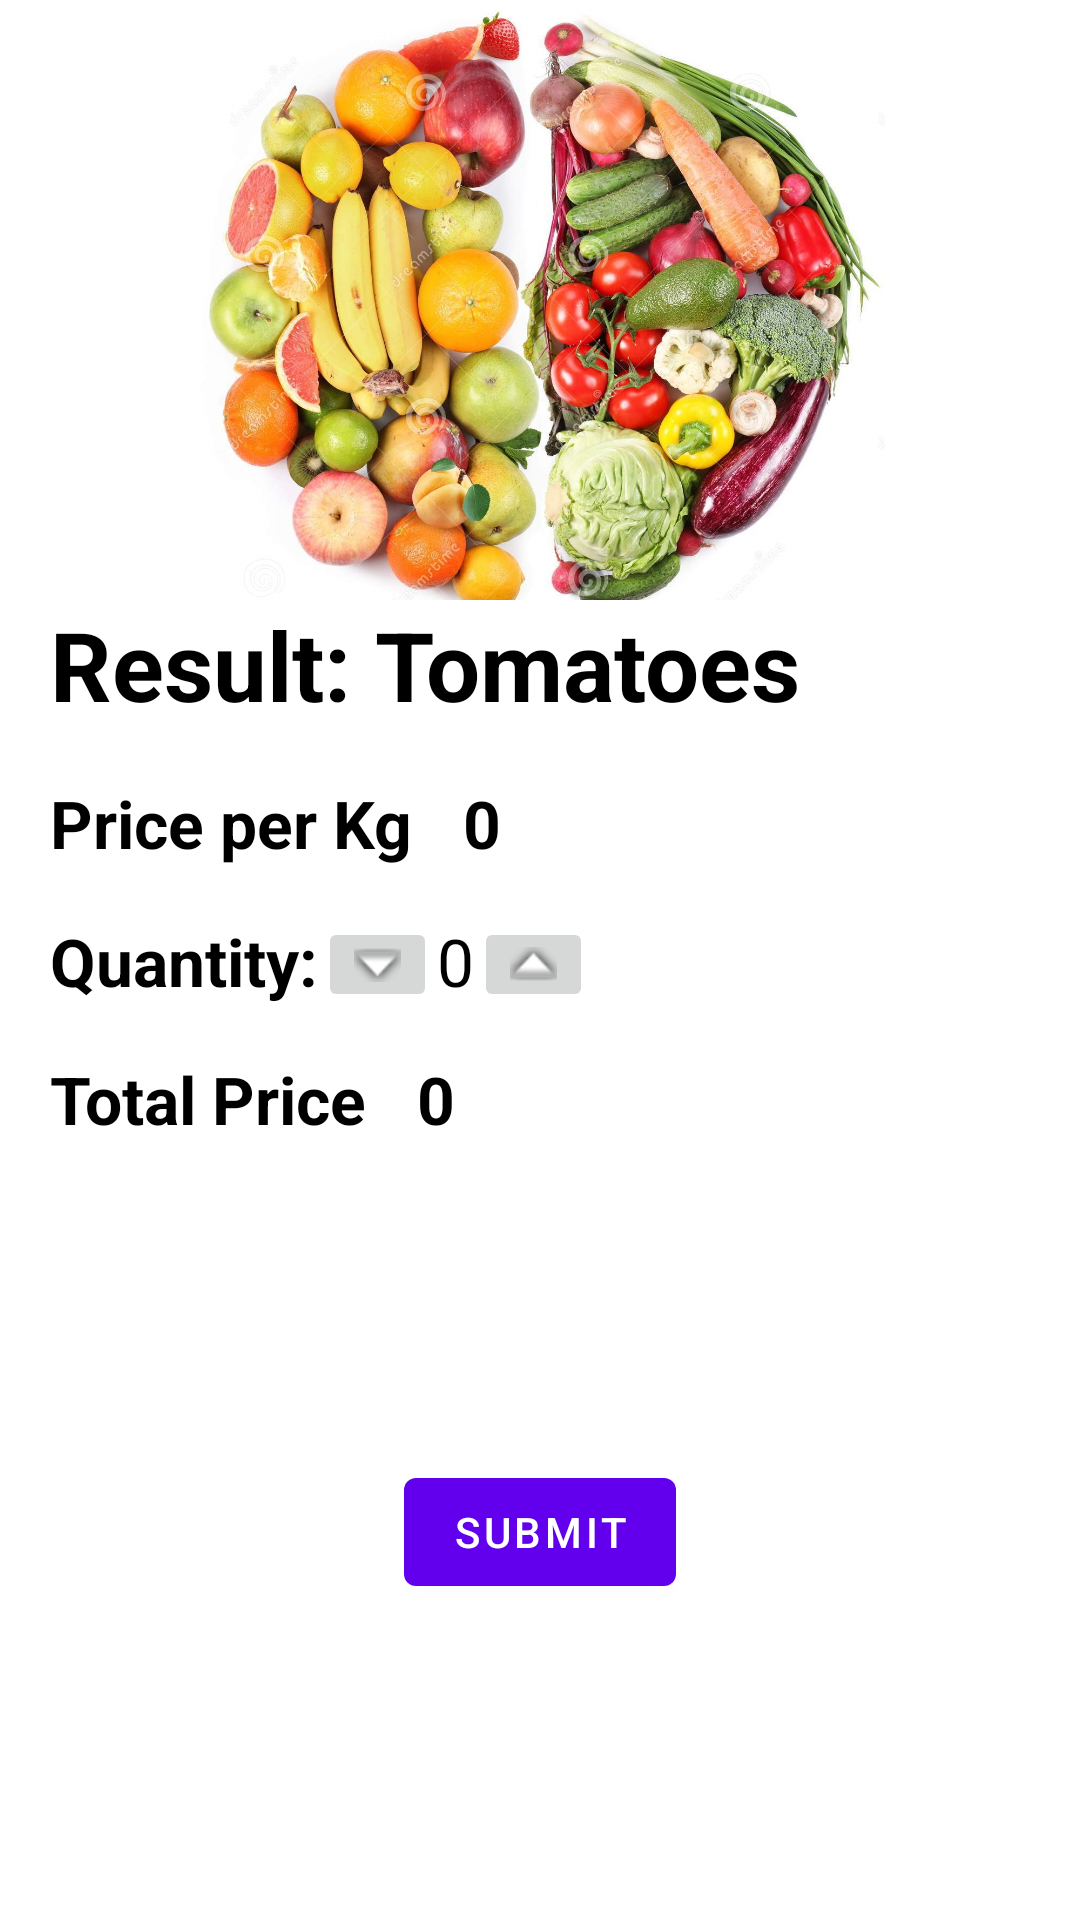

Named icons in this screenshot (1080w x 1920h) and their centers, point (x, y):
arrow down float: point (377, 964)
arrow up float: point (533, 964)
